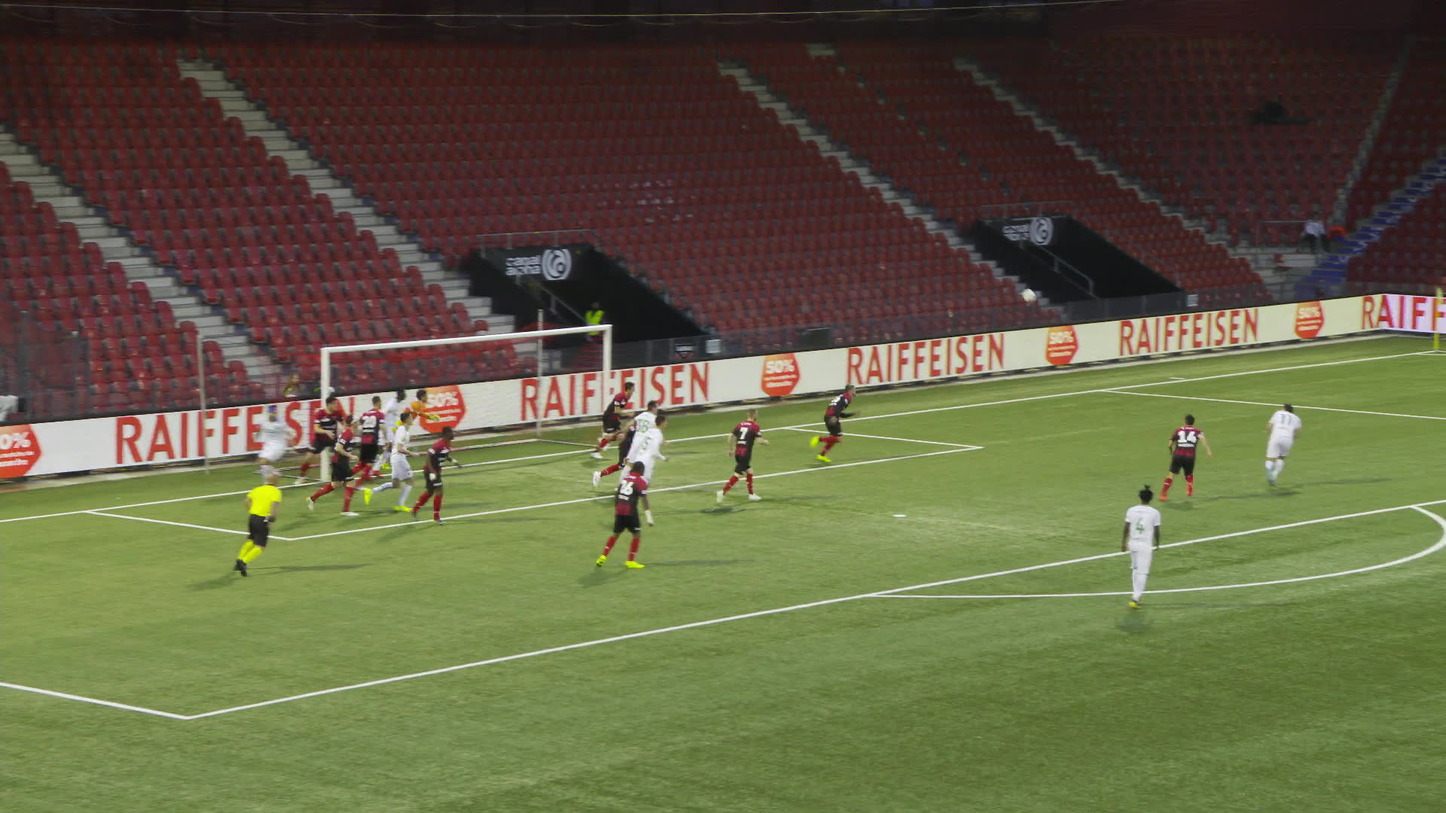ball: (1017, 284, 1031, 298)
player: (604, 460, 657, 569), (369, 412, 426, 511), (1120, 486, 1164, 609), (312, 414, 365, 515), (297, 394, 354, 485), (624, 402, 672, 509), (410, 428, 461, 525), (718, 409, 770, 503), (1158, 414, 1212, 502), (585, 380, 640, 458), (808, 386, 863, 463), (635, 413, 673, 524), (387, 390, 440, 468), (368, 391, 410, 482), (353, 395, 392, 491), (261, 406, 305, 486), (1266, 404, 1305, 488), (597, 419, 640, 487)
referee: (236, 470, 287, 574)
